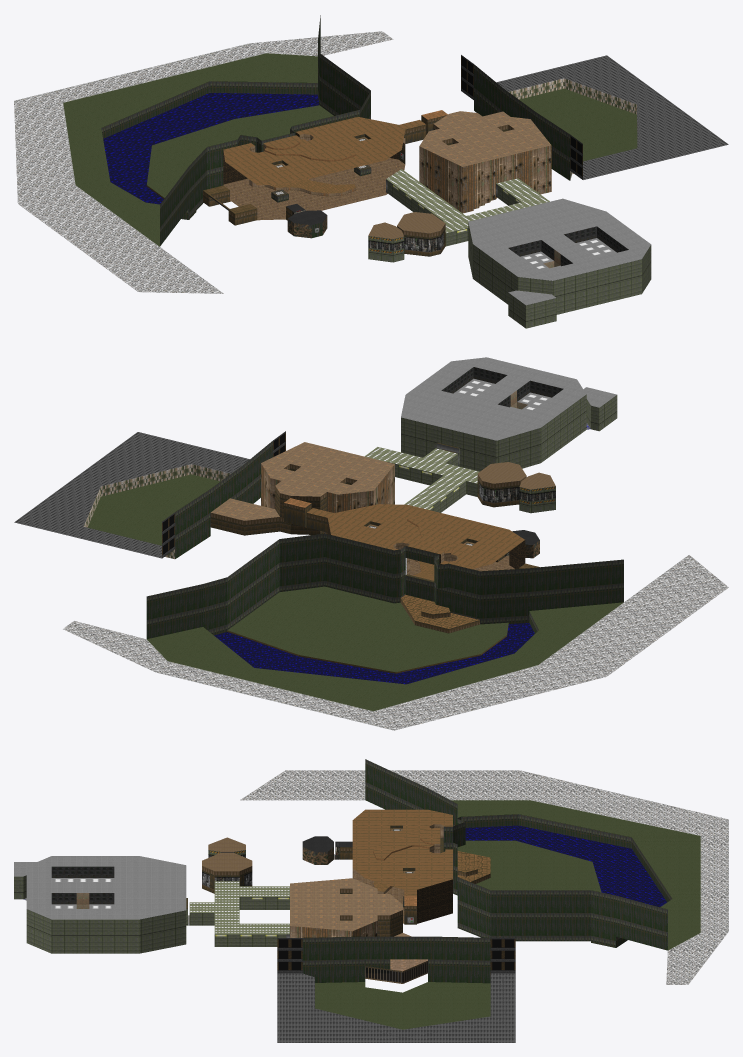
The model's file is doom-entry.glb.
3 renders of one model, top to bottom at view 1: azimuth 30°, elevation 25°; view 2: azimuth 150°, elevation 25°; view 3: azimuth 270°, elevation 25°, orthographic. The views are drawn at different scales.
Parts seen in each view (by area): view 1: node45, node48, node11, node26, node32, node15, node65, node43, node53, node39, node54, node46 (+12 smaller); view 2: node45, node11, node48, node26, node32, node65, node15, node39, node43, node46, node6, node53 (+10 smaller); view 3: node11, node45, node48, node32, node26, node65, node15, node43, node39, node46, node50, node55 (+10 smaller).
Boxes of the visible parts, x1,y1,x2,y2 form: node45: [63, 53, 637, 246]; node48: [14, 31, 393, 293]; node11: [101, 15, 570, 246]; node26: [468, 198, 650, 305]; node32: [496, 55, 728, 179]; node15: [223, 117, 425, 185]; node65: [387, 180, 651, 328]; node43: [103, 93, 319, 204]; node53: [419, 145, 551, 213]; node39: [419, 111, 550, 166]; node54: [223, 158, 405, 220]; node46: [386, 169, 549, 233]; node45: [87, 474, 623, 711]; node11: [146, 441, 623, 638]; node48: [63, 555, 728, 730]; node26: [401, 357, 616, 440]; node32: [14, 432, 249, 558]; node65: [387, 394, 617, 512]; node15: [307, 504, 524, 569]; node39: [211, 442, 394, 520]; node43: [214, 623, 534, 684]; node46: [364, 447, 479, 509]; node6: [210, 486, 326, 535]; node53: [261, 464, 394, 535]; node11: [302, 759, 672, 983]; node45: [315, 800, 700, 1029]; node48: [240, 770, 728, 984]; node32: [277, 973, 515, 1042]; node26: [14, 856, 186, 919]; node65: [14, 875, 286, 953]; node15: [352, 809, 452, 896]; node43: [465, 825, 666, 907]; node39: [290, 878, 411, 936]; node46: [189, 881, 289, 934]; node50: [277, 938, 515, 973]; node55: [51, 866, 114, 904].
Size of what is drawn, in the model's own units: 3376 by 304 by 3648.
66 materials, 66 textured.
